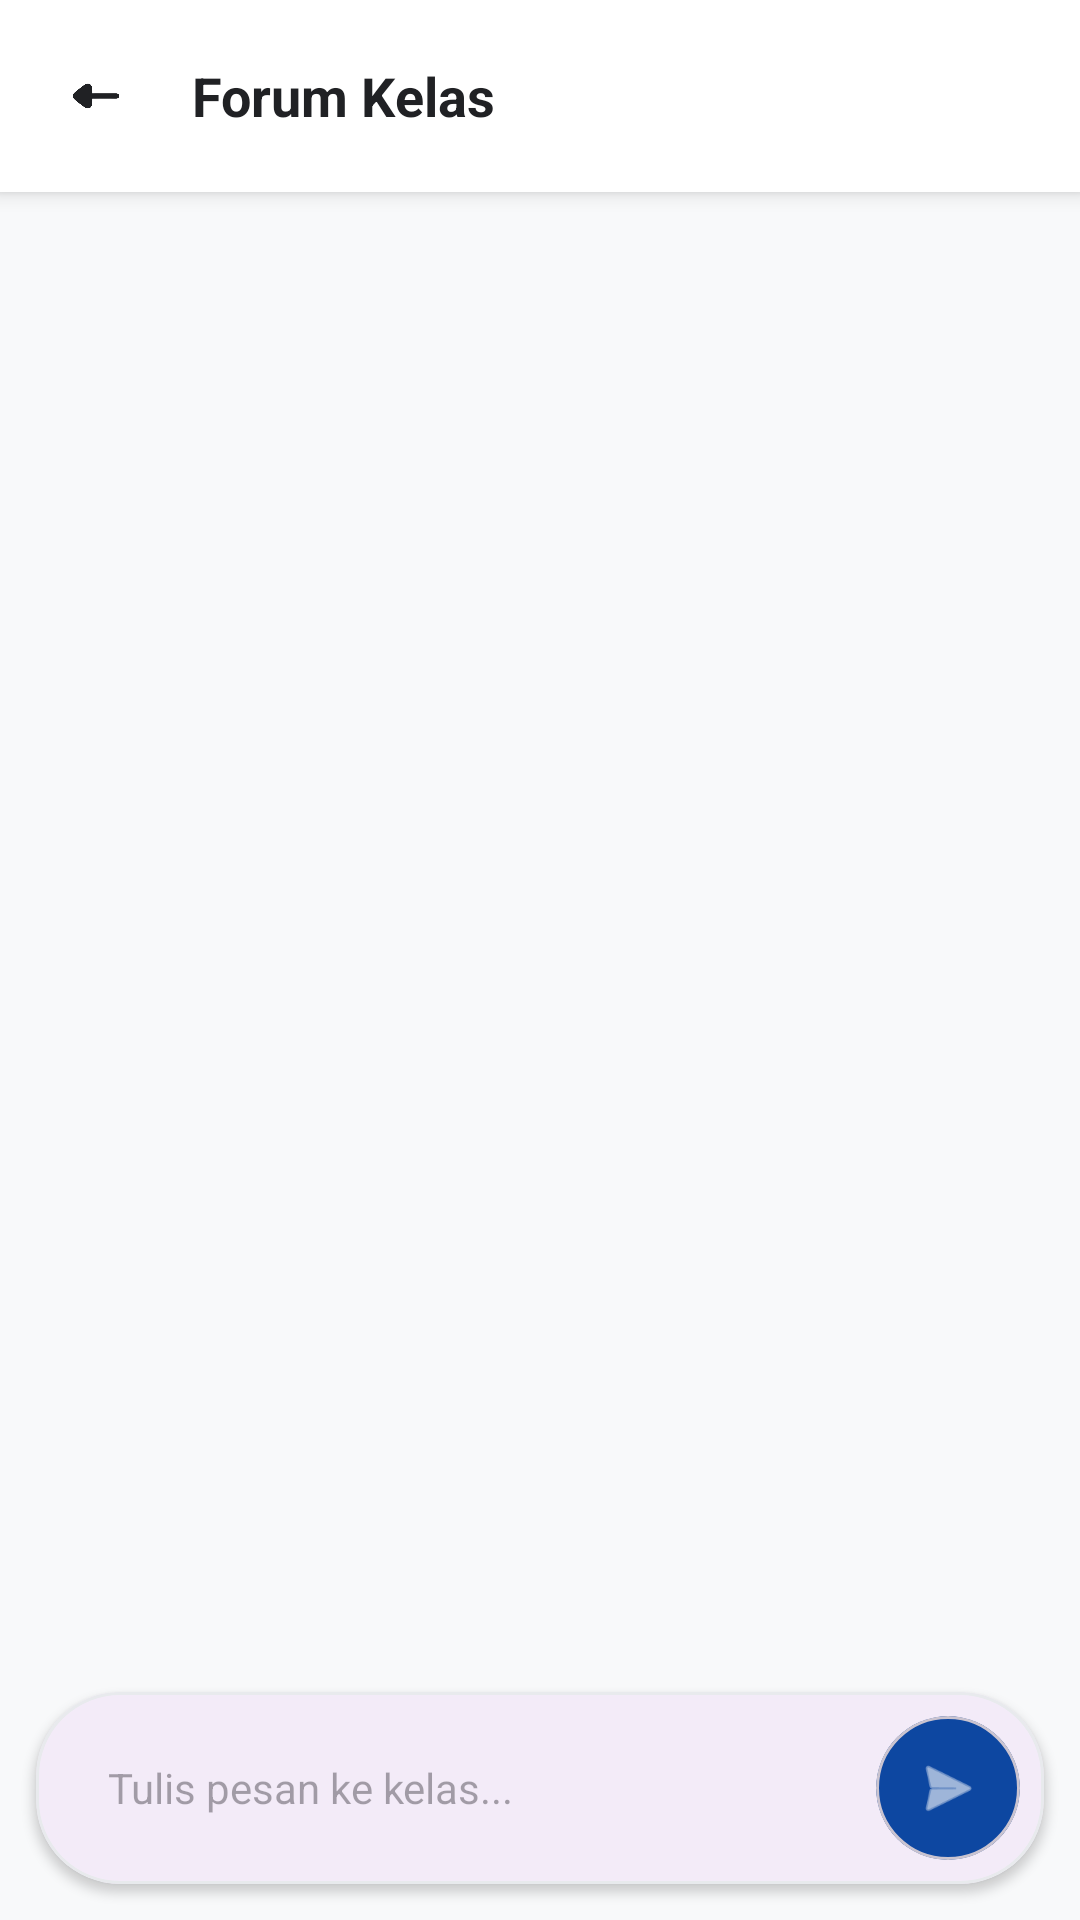

Icon bounding boxes for this 1080 × 1920 phone screenshot, format (x1, y1, x2, y2):
arrow back: (73, 84, 119, 108)
send: (876, 1716, 1020, 1860)
